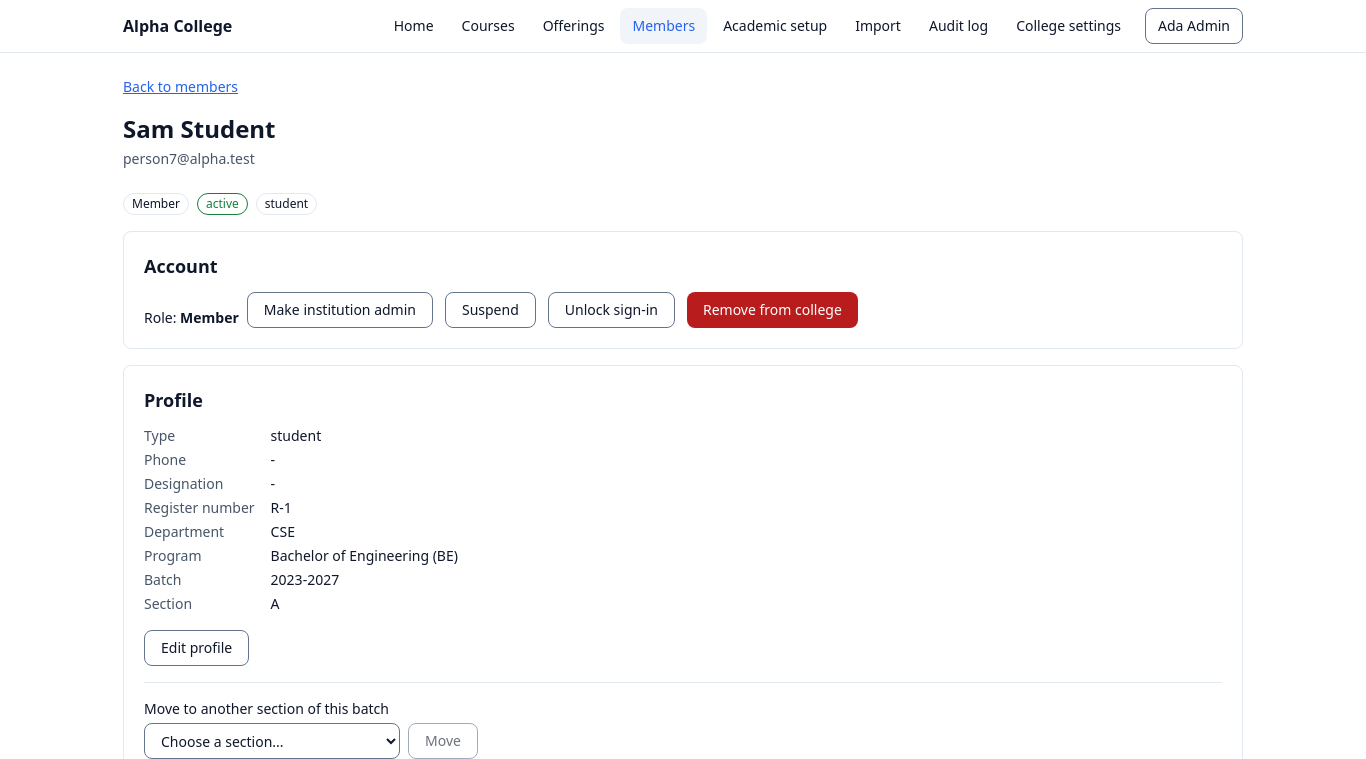
editing a student profile › changing the department clears program, batch and section below it
The width and height of the screenshot is (1366, 759).
Click the button "Edit profile": click(197, 648) x1=144 y1=630 x2=249 y2=666
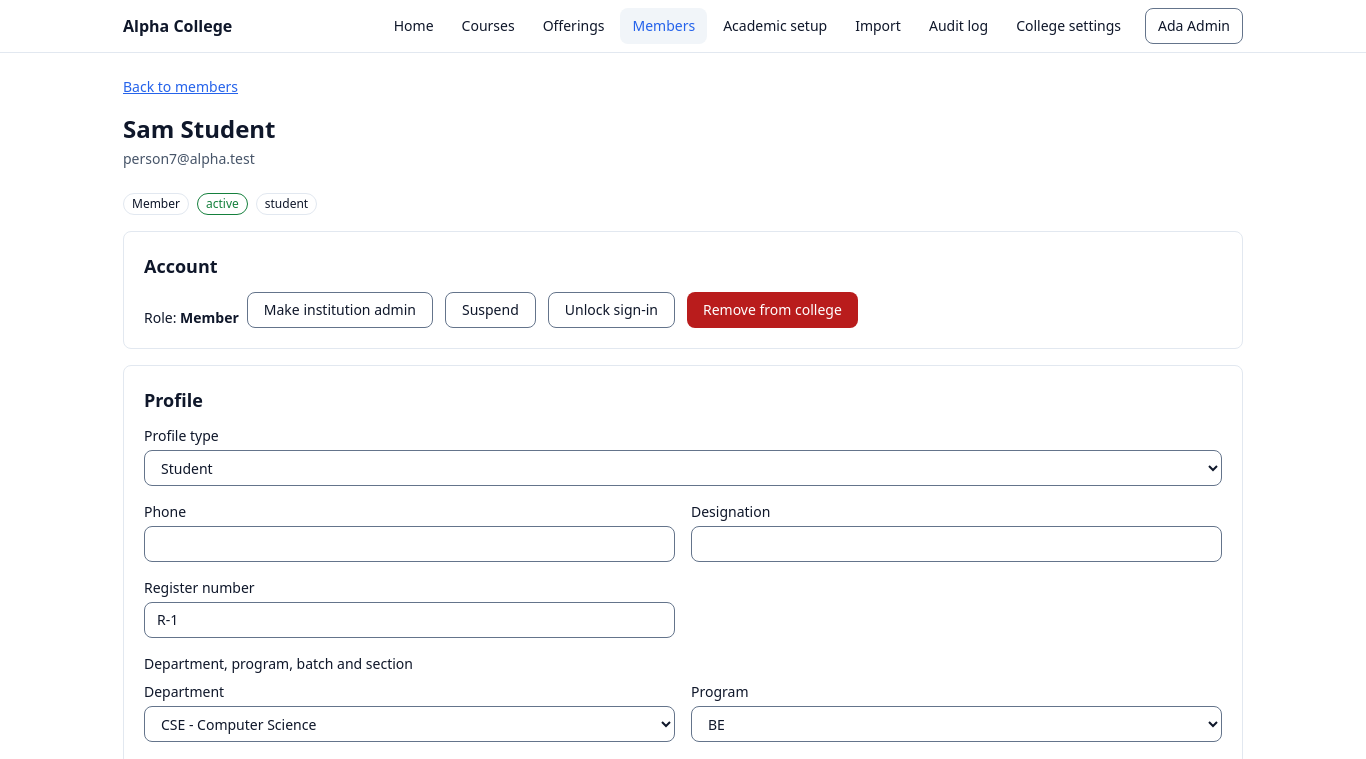
Select "Choose..." in the dropdown labelled "Department": (410, 724) x1=144 y1=706 x2=675 y2=742
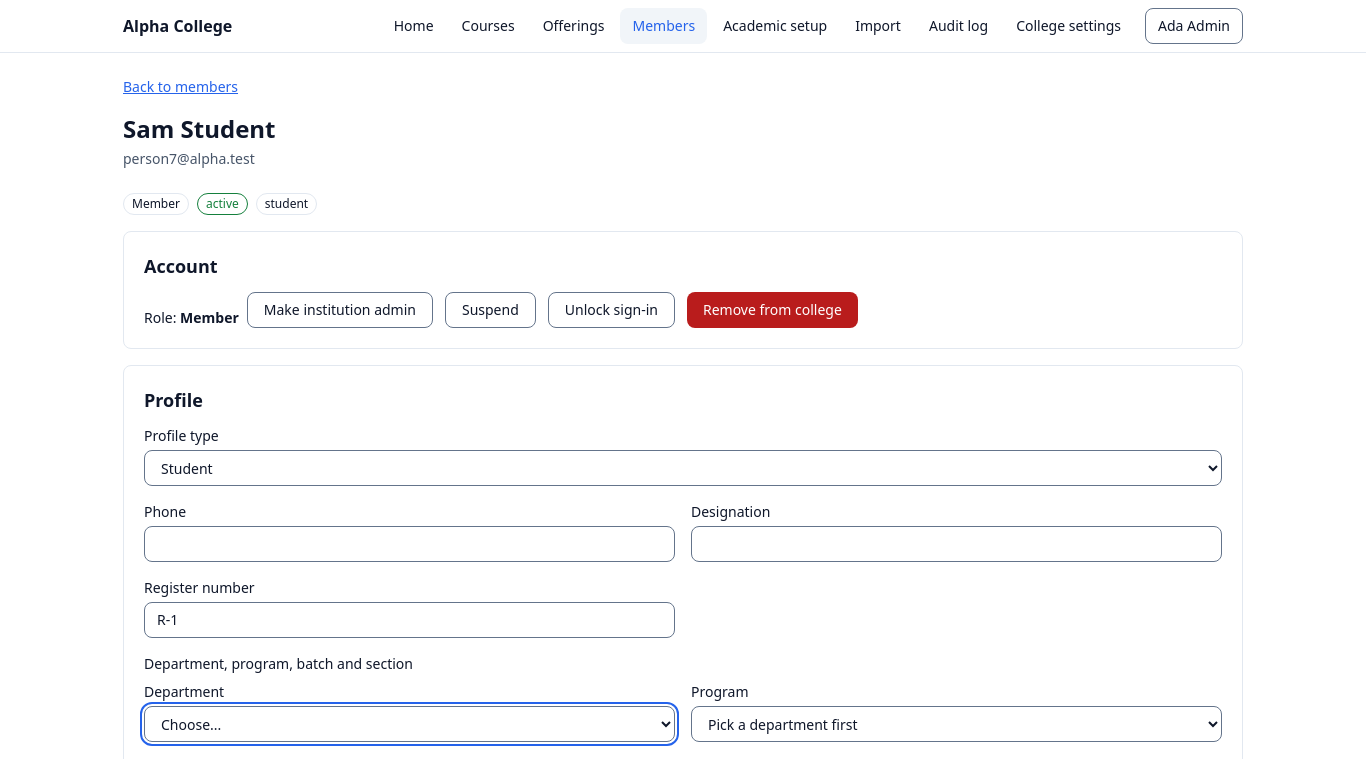
Now the dropdown labelled "Program" shows "Pick a department first", box x1=691 y1=706 x2=1222 y2=742
Now the dropdown labelled "Program" is disabled, box x1=691 y1=706 x2=1222 y2=742
